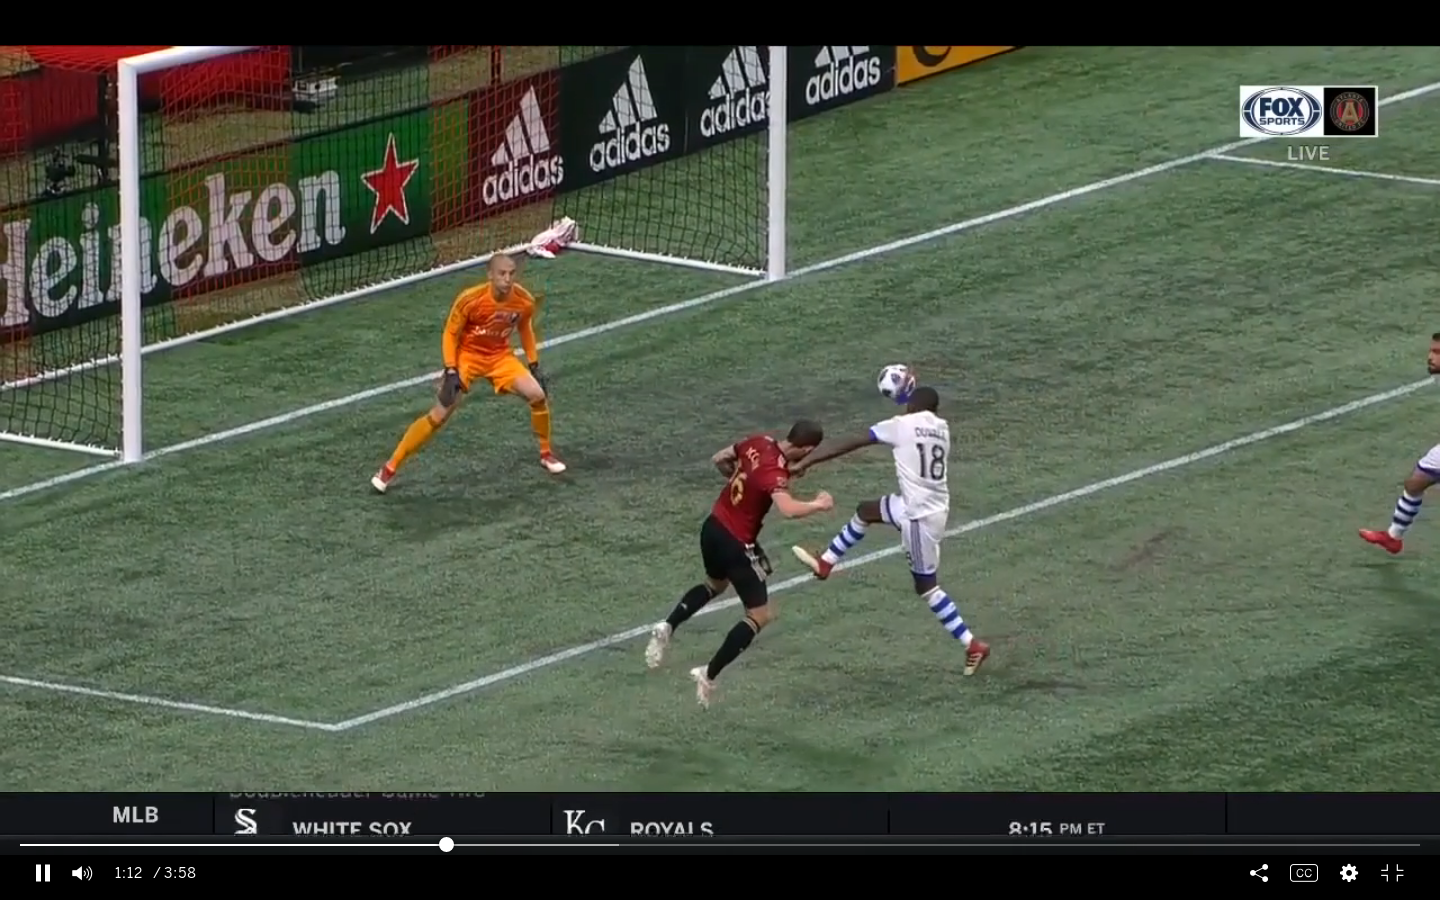soccer player: (787, 385, 1002, 680), (639, 409, 833, 712), (370, 251, 562, 505)
soccerball: (872, 360, 922, 405)
